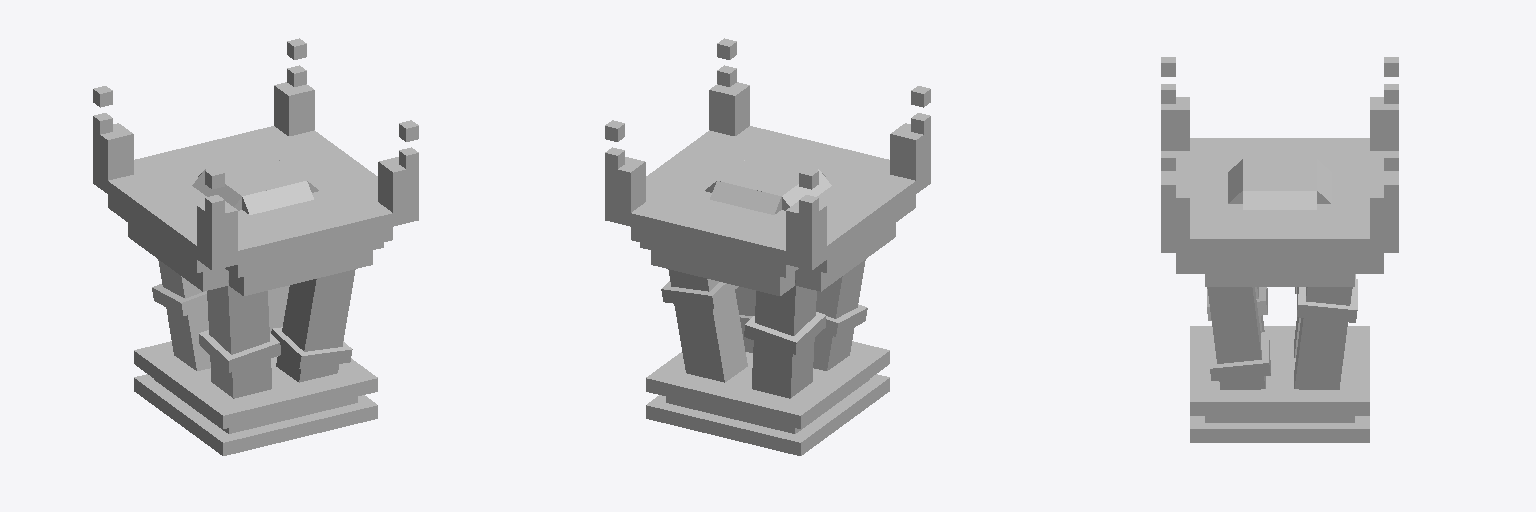
The model's file is blockdemoncrystallizer.obj.
The picture shows the model from 3 angles: view 1: azimuth 30°, elevation 25°; view 2: azimuth 150°, elevation 25°; view 3: azimuth 270°, elevation 25°; orthographic projection.
Parts seen in each view (by area): view 1: BlockDemonCrystallizer.001; view 2: BlockDemonCrystallizer.001; view 3: BlockDemonCrystallizer.001.
Boxes of the visible parts, box(x1,y1,x2,y2) form: BlockDemonCrystallizer.001: box(93, 38, 418, 455); BlockDemonCrystallizer.001: box(605, 38, 930, 455); BlockDemonCrystallizer.001: box(1161, 57, 1398, 442).
Bounding box in the file's own units: 1 × 1.38 × 1.